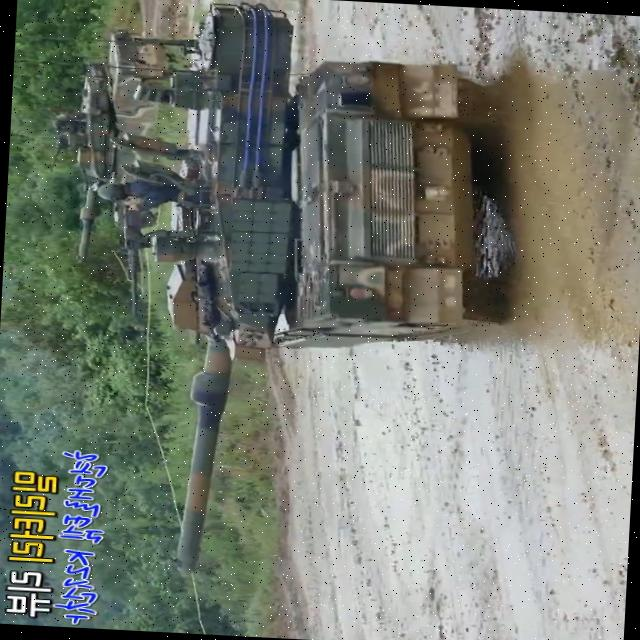korea tank: (76, 0, 525, 589)
